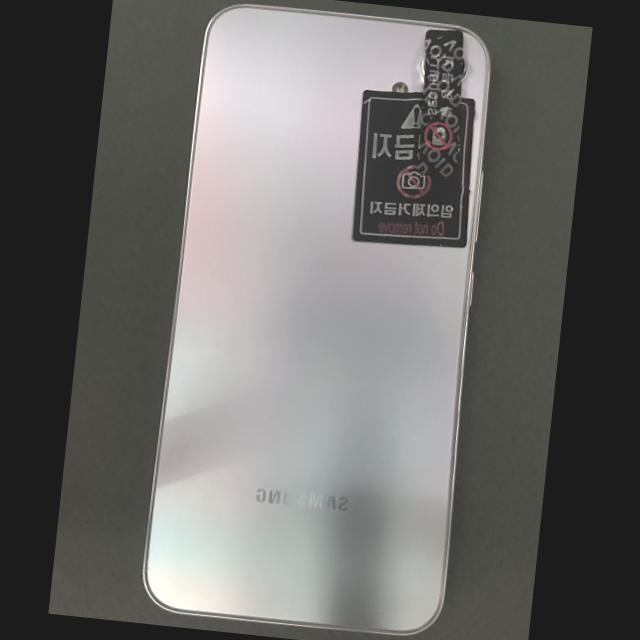lens: (460, 57, 467, 82)
phone: (144, 6, 488, 633)
sticker: (351, 89, 475, 248), (417, 29, 464, 179)
